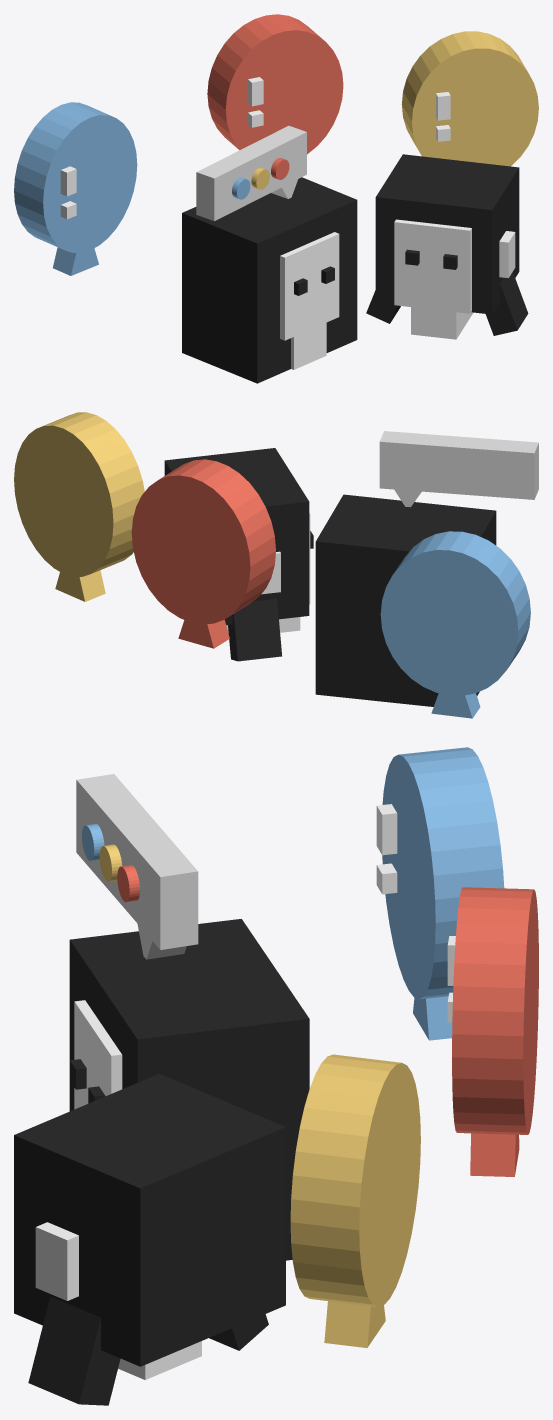
The model's file is friendship.glb.
3 renders of one model, top to bottom at view 1: azimuth 30°, elevation 25°; view 2: azimuth 150°, elevation 25°; view 3: azimuth 270°, elevation 25°, orthographic. The views are drawn at different scales.
Parts seen in each view (by area): view 1: Cube.052, Cylinder.005, Cylinder.007, Cylinder.006, Cube.001, Cube.029, Cube.062, Cube.051, Cube.032, Cube.028, Cube.054, balloon blue (+4 smaller); view 2: Cube.052, Cylinder.007, Cylinder.006, Cylinder.005, Cube.062, Cube.001, Cube.031, balloon yellow, balloon red, balloon blue, Cube.027; view 3: Cube.001, Cube.052, Cylinder.005, Cylinder.007, Cylinder.006, Cube.062, Cube.032, Cube.051, Cube.027, balloon yellow, balloon red, balloon blue (+3 smaller).
Boxes of the visible parts, x1,y1,x2,y2 form: Cube.052: (182, 177, 357, 383); Cylinder.005: (401, 31, 538, 166); Cylinder.007: (14, 102, 137, 252); Cylinder.006: (207, 14, 343, 154); Cube.001: (375, 154, 519, 314); Cube.029: (394, 219, 471, 313); Cube.062: (196, 125, 306, 221); Cube.051: (280, 232, 339, 340); Cube.032: (485, 272, 528, 335); Cube.028: (411, 307, 472, 339); Cube.054: (291, 322, 326, 369); balloon blue: (53, 247, 98, 275); Cube.052: (315, 494, 496, 706); Cylinder.007: (380, 531, 530, 695); Cylinder.006: (131, 459, 275, 624); Cylinder.005: (14, 412, 144, 576); Cube.062: (379, 431, 538, 499); Cube.001: (164, 448, 309, 625); Cube.031: (228, 598, 281, 661); balloon yellow: (55, 570, 105, 601); balloon red: (178, 619, 229, 648); balloon blue: (431, 693, 480, 718); Cube.027: (261, 551, 280, 594); Cube.001: (14, 1073, 285, 1366); Cube.052: (69, 919, 309, 1260); Cylinder.005: (290, 1054, 420, 1307); Cylinder.007: (382, 747, 504, 999); Cylinder.006: (452, 887, 538, 1134); Cube.062: (76, 774, 198, 949); Cube.032: (28, 1296, 120, 1405); Cube.051: (74, 1000, 122, 1109); Cube.027: (35, 1222, 78, 1300); balloon yellow: (324, 1301, 385, 1347); balloon red: (470, 1133, 519, 1176); balloon blue: (413, 996, 452, 1040).
Bounding box in the file's own units: 4.3 × 2.03 × 2.35.
